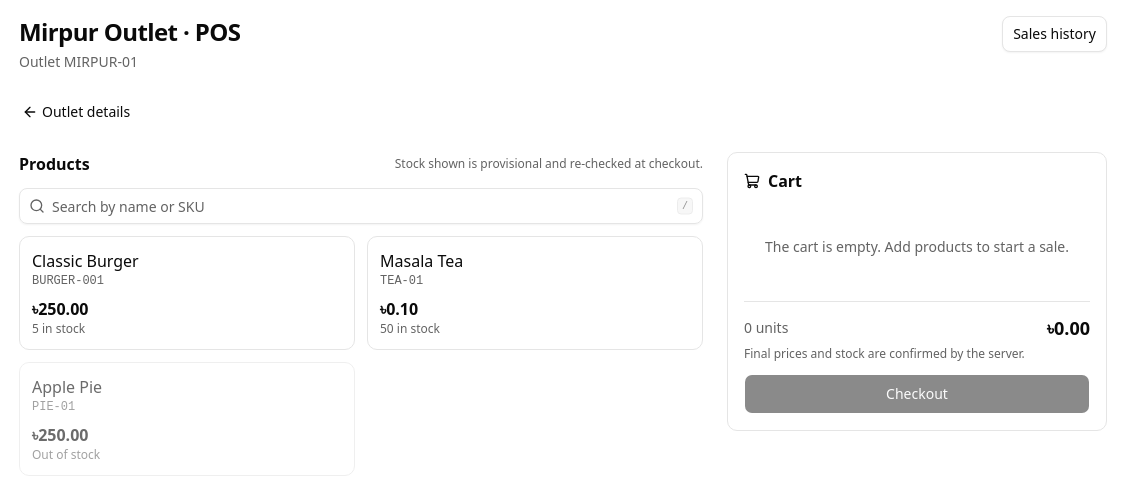
Test: POS catalog and cart › clears search with the X button and focuses the input
Expected: the text "Classic Burger" is shown, [32, 249, 139, 273]
Type "tea" into the search field named "search products" at [361, 206], box [19, 188, 703, 224]
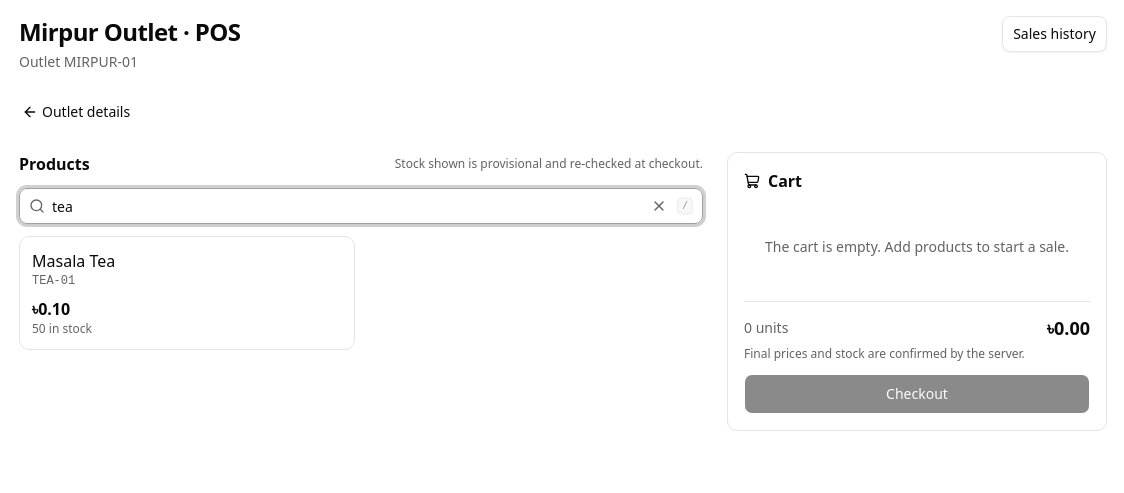
Now the button "Classic Burger" is gone
Click the button named "Clear search" at [659, 206], box [647, 194, 671, 218]
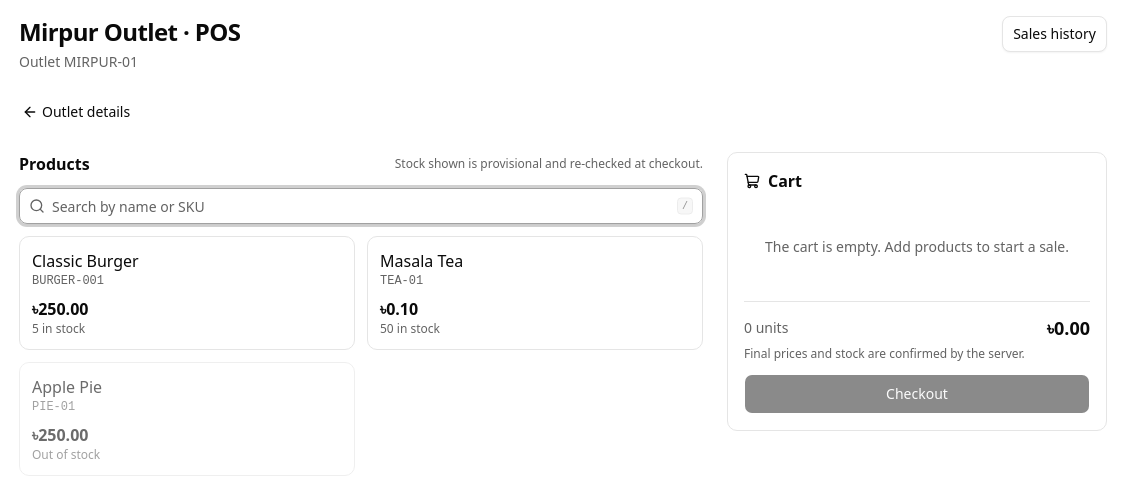
Now the text "Classic Burger" is shown, box [32, 249, 139, 273]
